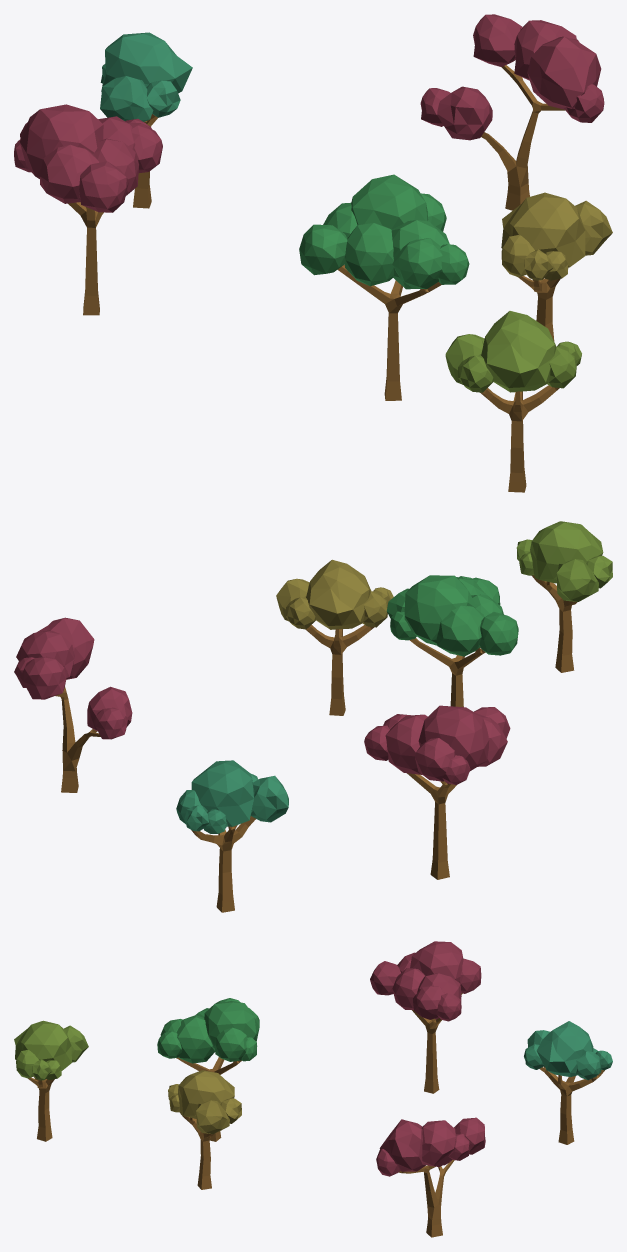
Rendered from alltree.glb.
3 views of the same model, one above another, from view 1: azimuth 30°, elevation 25°; view 2: azimuth 150°, elevation 25°; view 3: azimuth 270°, elevation 25° (orthographic). The views are drawn at different scales.
Visible parts, largest first — view 1: Object_8.001; view 2: Object_8.001; view 3: Object_8.001.
Part boxes in pixels (x1,y1,x2,y2): Object_8.001: (14, 14, 612, 492); Object_8.001: (14, 521, 612, 912); Object_8.001: (14, 941, 612, 1237).
Size of the model in its own units: 3.68 by 1.32 by 5.13.
